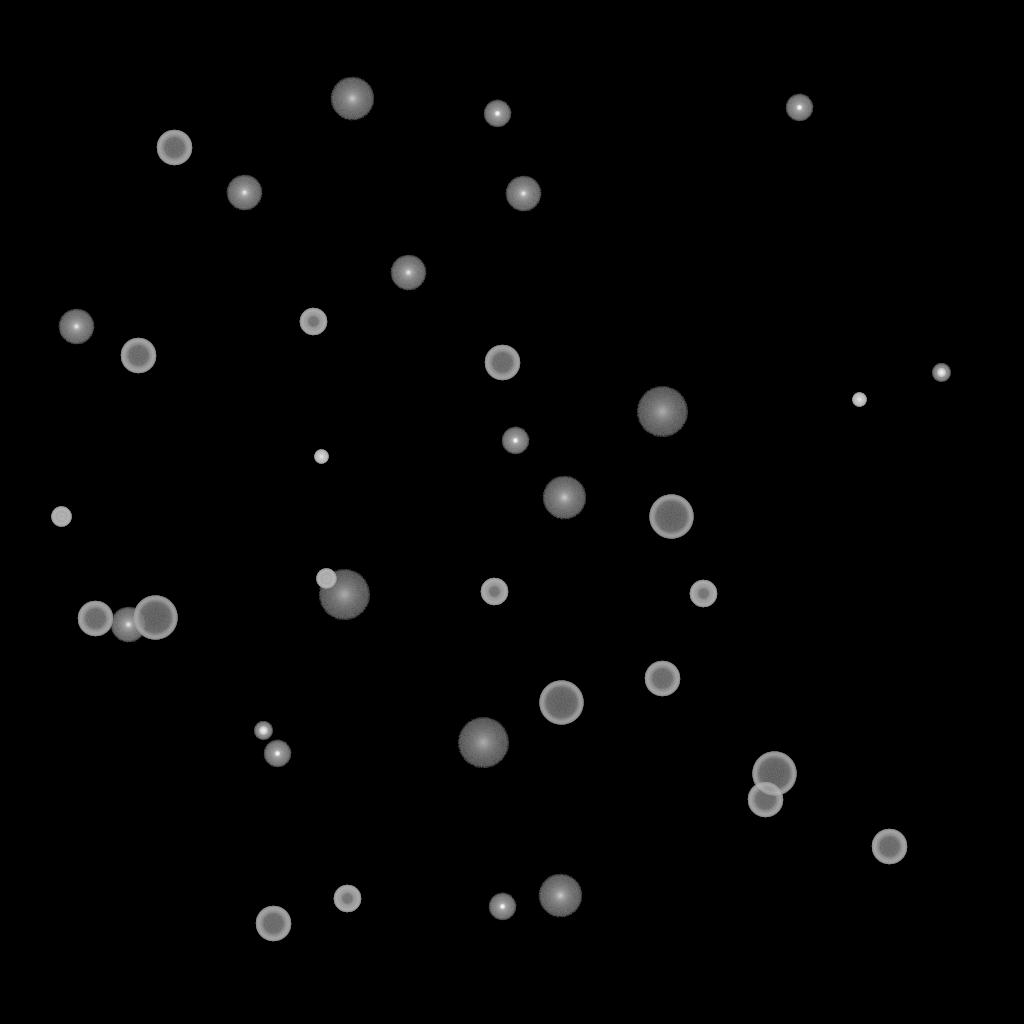depth:-10: (483, 100, 511, 128), (501, 427, 529, 455), (488, 893, 516, 921), (263, 740, 291, 768), (785, 94, 813, 122)
depth:-20: (254, 722, 272, 740), (932, 364, 950, 382)
depth:-30: (314, 450, 328, 464), (852, 393, 866, 407)
depth:-40: (316, 569, 336, 589), (51, 507, 71, 527)
depth:-50: (299, 308, 327, 336), (333, 885, 361, 913), (480, 578, 508, 606), (689, 580, 717, 608)
depth:-60: (77, 601, 113, 637), (644, 661, 680, 697), (120, 338, 156, 374), (255, 906, 291, 942), (484, 345, 520, 381), (747, 782, 783, 818), (156, 130, 192, 166), (871, 829, 907, 865)
depth:-70: (539, 681, 583, 725), (752, 752, 796, 796), (133, 596, 177, 640), (649, 495, 693, 539)
depth:0: (390, 255, 426, 291), (110, 607, 146, 643), (58, 309, 94, 345), (505, 176, 541, 212), (226, 175, 262, 211)
depth:10: (542, 476, 586, 520), (538, 874, 582, 918), (330, 77, 374, 121)
depth:20: (457, 718, 509, 768), (318, 570, 370, 620), (636, 387, 688, 437)
